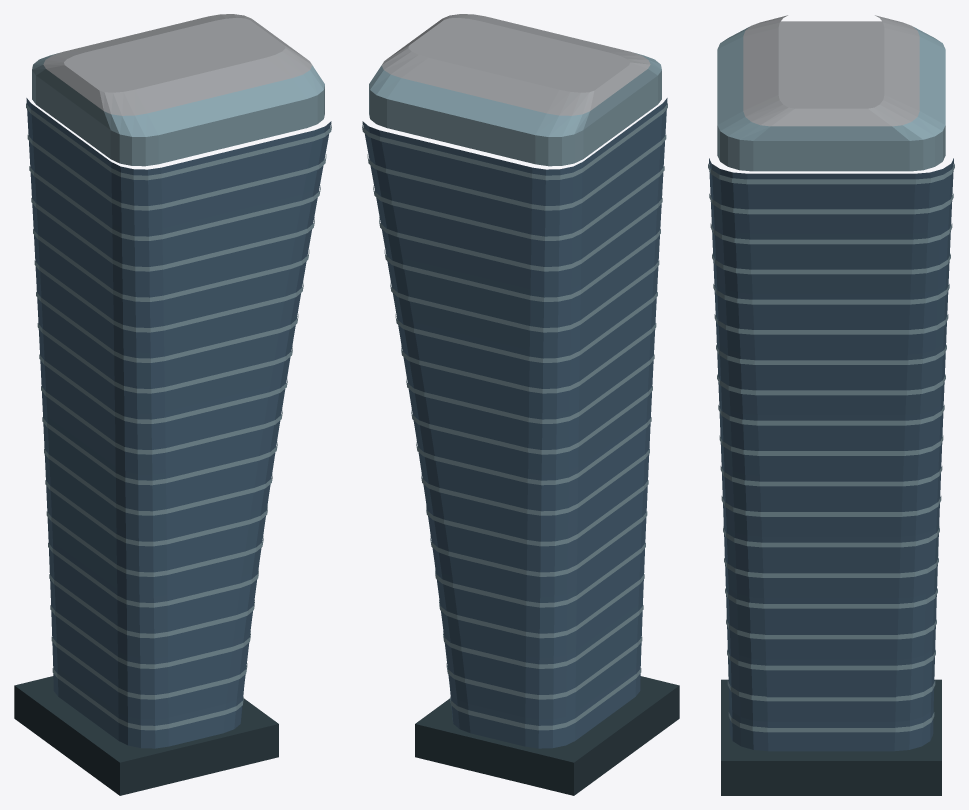
File: walkie_talkie.glb
3 renders of one model, left to right at view 1: azimuth 30°, elevation 25°; view 2: azimuth 150°, elevation 25°; view 3: azimuth 270°, elevation 25°, orthographic. The views are drawn at different scales.
Parts seen in each view (by area): view 1: walkie_talkie; view 2: walkie_talkie; view 3: walkie_talkie.
Part boxes in pixels (x1,y1,x2,y2): walkie_talkie: [14, 14, 331, 795]; walkie_talkie: [362, 14, 679, 795]; walkie_talkie: [708, 15, 954, 795].
Bounding box in the file's own units: 55.5 × 162 × 51.32.
